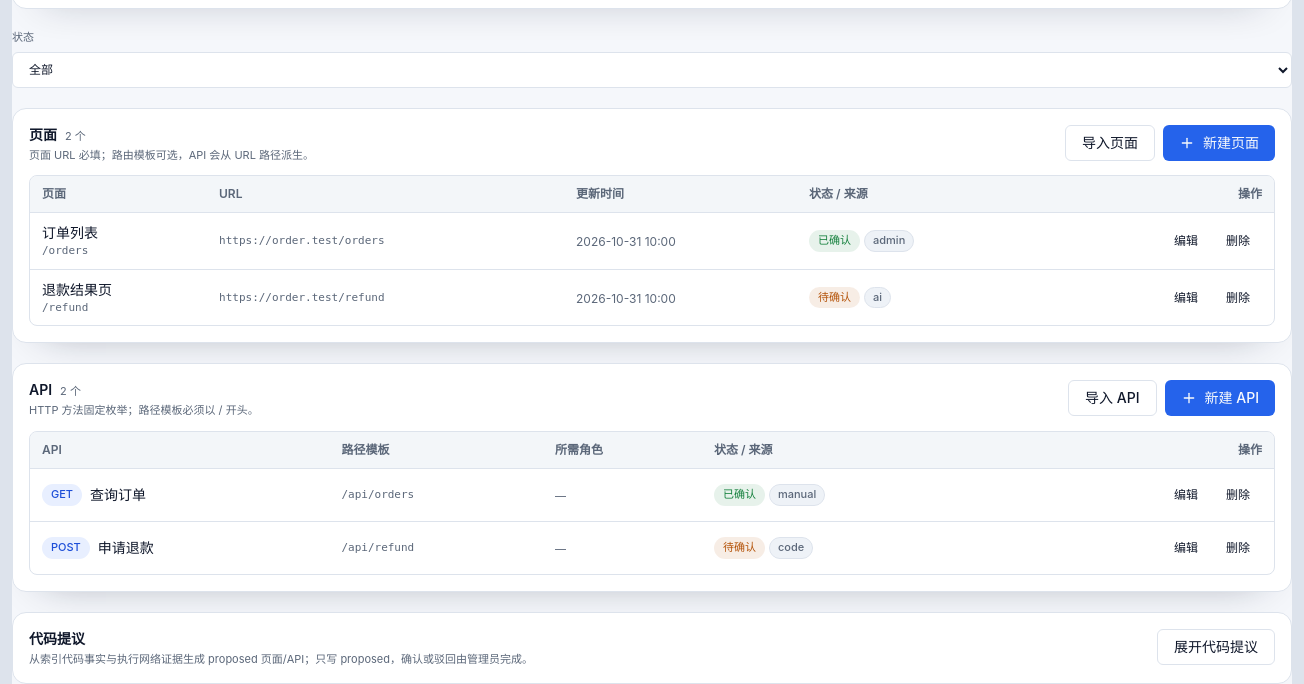
Scenario: PageAPIPanel proposals › shows inline 422 errors from generation
(page scrolled)
Click the button "展开代码提议" at [1216, 647], box left=1157, top=629, right=1275, bottom=665
(page scrolled)
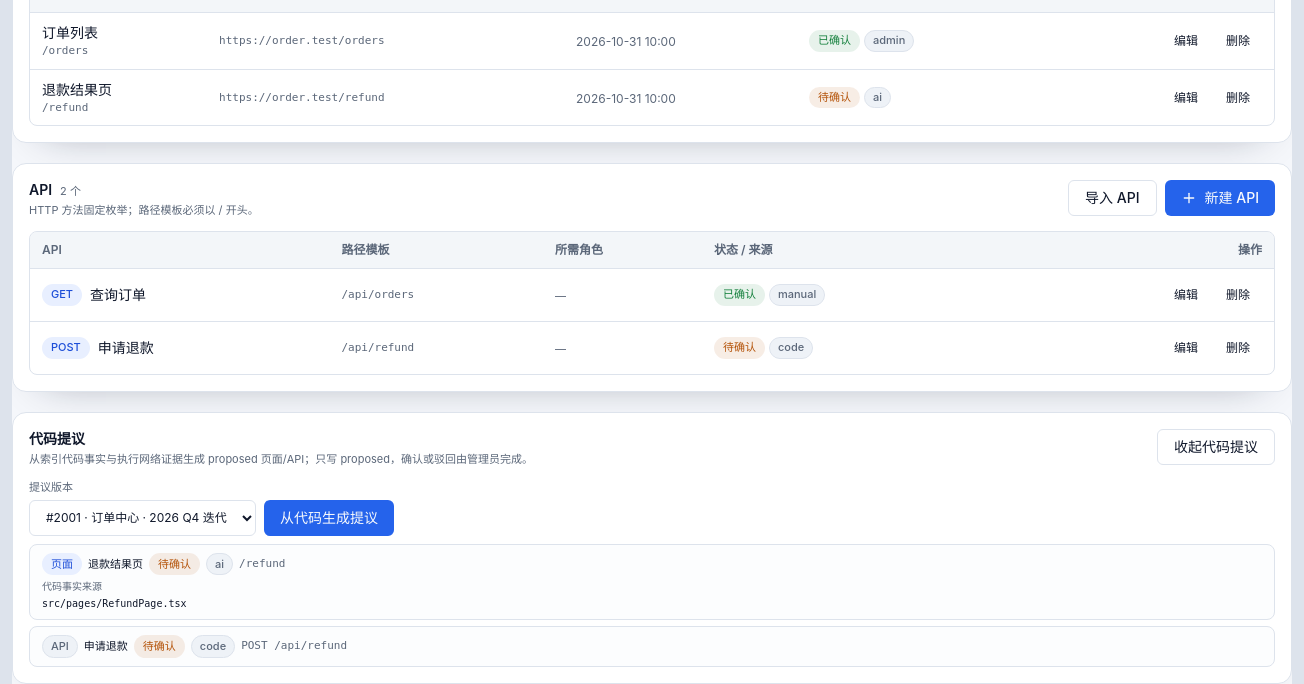
Click the button "从代码生成提议" at [329, 518], box left=264, top=500, right=394, bottom=536
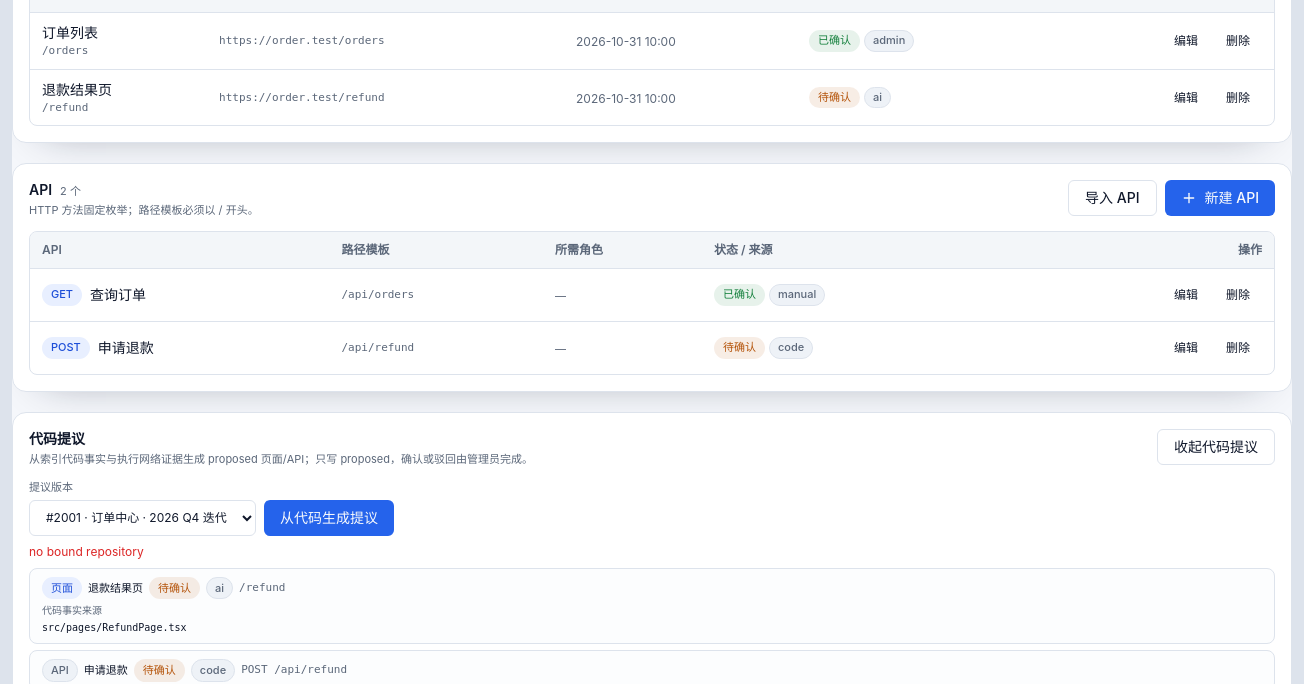
expect the text "no bound repository" is shown: met, box left=29, top=544, right=144, bottom=559
